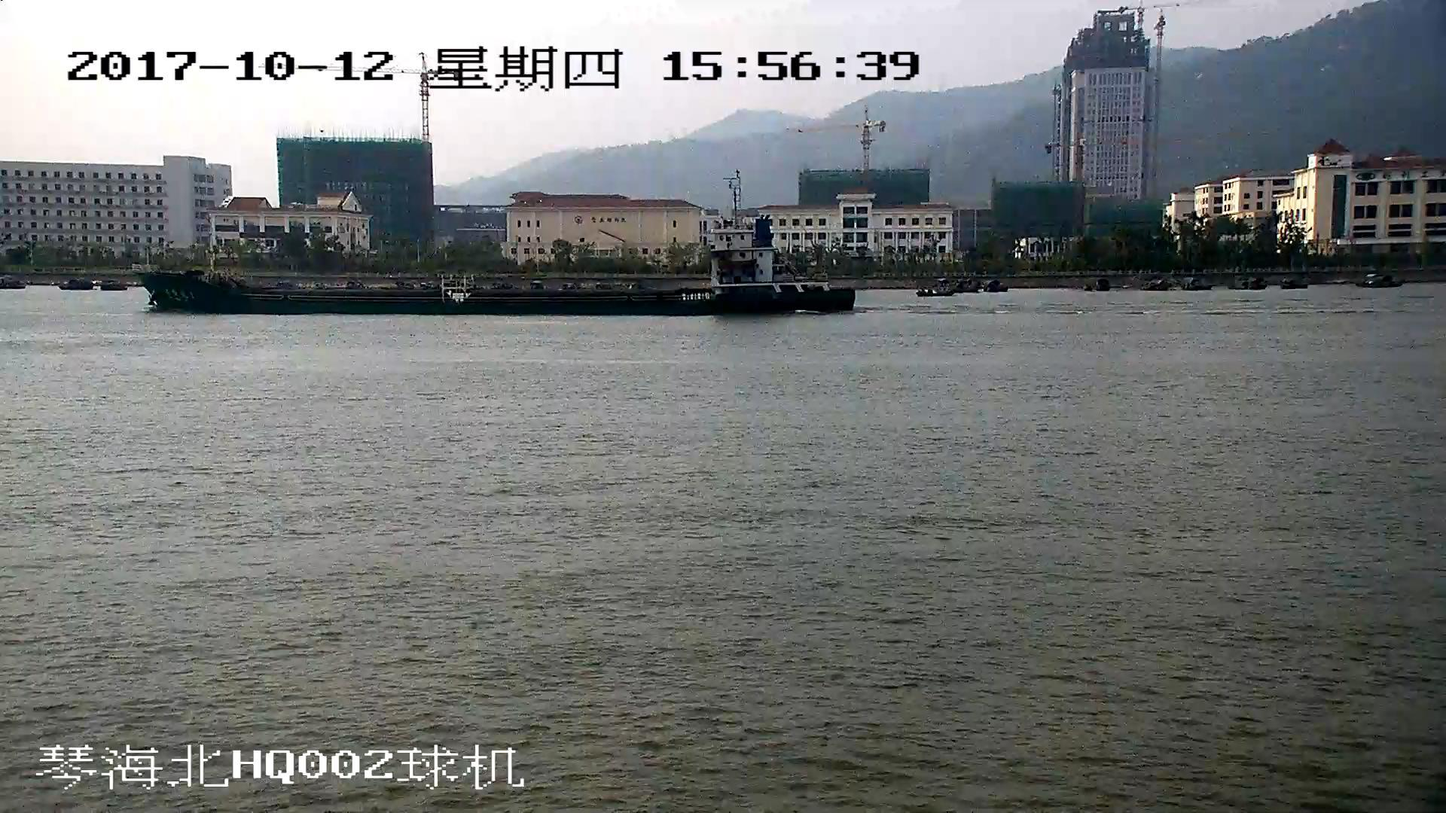general cargo ship: (135, 179, 858, 311)
